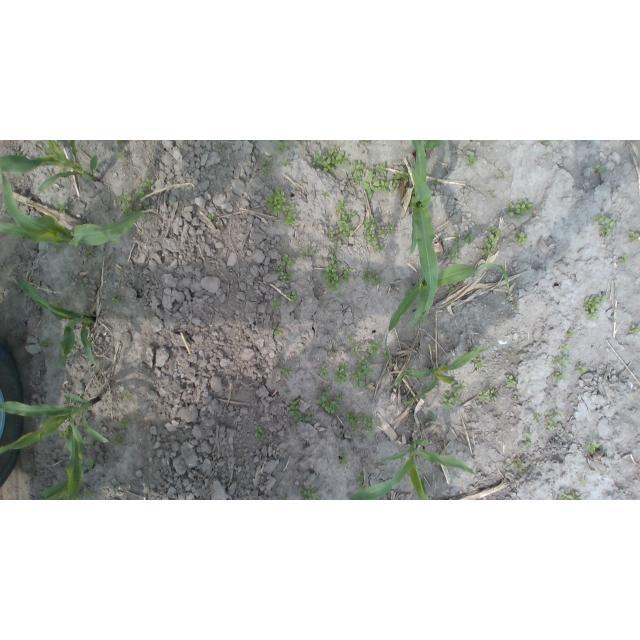Maize: (1, 392, 110, 500), (0, 171, 144, 249), (384, 264, 511, 349), (348, 440, 477, 501), (15, 277, 100, 369), (390, 347, 490, 406), (409, 140, 440, 322), (1, 140, 102, 192), (40, 460, 96, 501), (412, 141, 447, 158)
Weeds: (320, 256, 353, 293), (312, 146, 350, 175), (363, 163, 390, 199), (362, 213, 385, 253), (349, 356, 375, 391), (335, 199, 356, 242), (315, 387, 344, 416), (117, 189, 148, 216), (262, 188, 286, 217), (442, 381, 465, 411), (584, 294, 607, 321), (506, 198, 534, 220), (592, 212, 616, 237), (481, 227, 500, 257), (390, 165, 410, 193), (278, 254, 295, 283), (360, 268, 384, 287), (349, 160, 366, 185), (545, 410, 563, 432), (361, 414, 377, 437), (346, 409, 361, 432), (332, 364, 348, 385), (299, 486, 322, 500), (479, 388, 500, 403), (287, 399, 301, 421), (445, 244, 463, 261), (283, 205, 297, 225), (520, 432, 533, 453), (366, 339, 380, 358), (260, 157, 273, 176), (558, 489, 580, 500), (552, 356, 572, 368), (39, 336, 55, 351), (512, 231, 528, 245), (473, 354, 487, 370), (319, 364, 331, 381), (300, 246, 318, 257), (511, 458, 525, 472), (55, 199, 69, 213), (585, 440, 600, 453), (338, 452, 349, 469), (328, 227, 339, 244), (43, 140, 54, 156), (552, 371, 569, 381), (463, 232, 476, 245), (287, 292, 300, 305), (275, 140, 289, 152), (503, 374, 517, 386), (467, 151, 478, 165), (254, 427, 265, 441), (385, 222, 395, 237), (52, 297, 64, 309), (108, 294, 121, 305), (112, 434, 125, 445), (357, 476, 368, 489), (273, 324, 284, 337), (279, 367, 293, 377), (559, 343, 570, 355), (121, 391, 133, 402), (83, 248, 94, 259), (619, 255, 630, 265), (629, 230, 640, 240), (143, 179, 154, 189), (382, 349, 392, 360), (631, 324, 640, 336), (51, 243, 62, 252), (301, 414, 312, 423), (272, 298, 281, 309), (455, 232, 462, 245), (82, 492, 95, 499), (595, 164, 605, 173), (567, 329, 576, 339), (576, 365, 586, 374), (352, 345, 361, 355), (58, 428, 66, 439), (114, 141, 126, 148), (120, 420, 129, 429), (55, 141, 63, 150), (87, 441, 95, 450), (327, 245, 336, 253), (115, 152, 125, 159), (356, 141, 370, 146), (429, 412, 437, 420), (472, 345, 481, 352), (446, 285, 454, 292), (540, 141, 551, 146), (280, 494, 289, 500), (433, 179, 440, 186), (347, 334, 354, 341), (208, 213, 214, 221), (321, 190, 329, 196), (556, 141, 565, 146), (283, 160, 289, 166), (535, 413, 541, 419), (500, 174, 505, 181), (309, 141, 318, 144), (90, 340, 95, 345), (332, 348, 337, 353), (338, 292, 343, 297), (71, 211, 77, 215), (516, 304, 520, 309), (540, 462, 545, 466)
